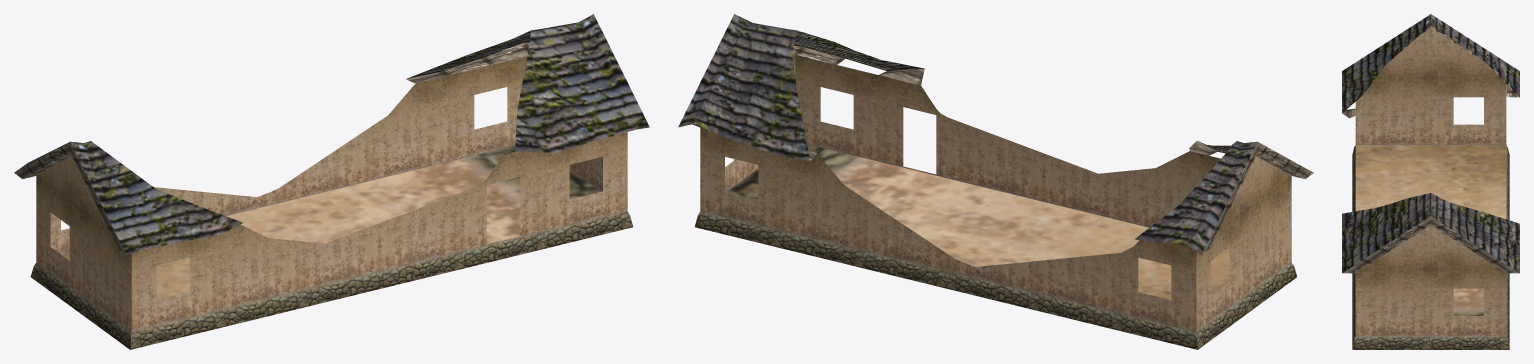
The model's file is s44_b_house_2_3_destroyed_1.dae.
The picture shows the model from 3 angles, left to right: view 1: azimuth 30°, elevation 25°; view 2: azimuth 150°, elevation 25°; view 3: azimuth 270°, elevation 25°; orthographic projection. The views are drawn at different scales.
Visible parts, largest first — view 1: s44_b_house_1_3; view 2: s44_b_house_1_3; view 3: s44_b_house_1_3.
Part boxes in pixels (left/top/right/bottom): s44_b_house_1_3: left=14, top=14, right=649, bottom=349; s44_b_house_1_3: left=678, top=14, right=1313, bottom=349; s44_b_house_1_3: left=1342, top=14, right=1519, bottom=349.
Size of the model in its own units: 152 by 56.55 by 48.36.
1 material, 1 textured.
